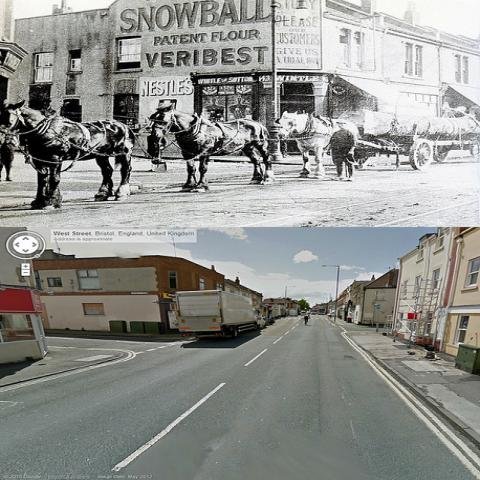truck: (176, 290, 260, 340)
